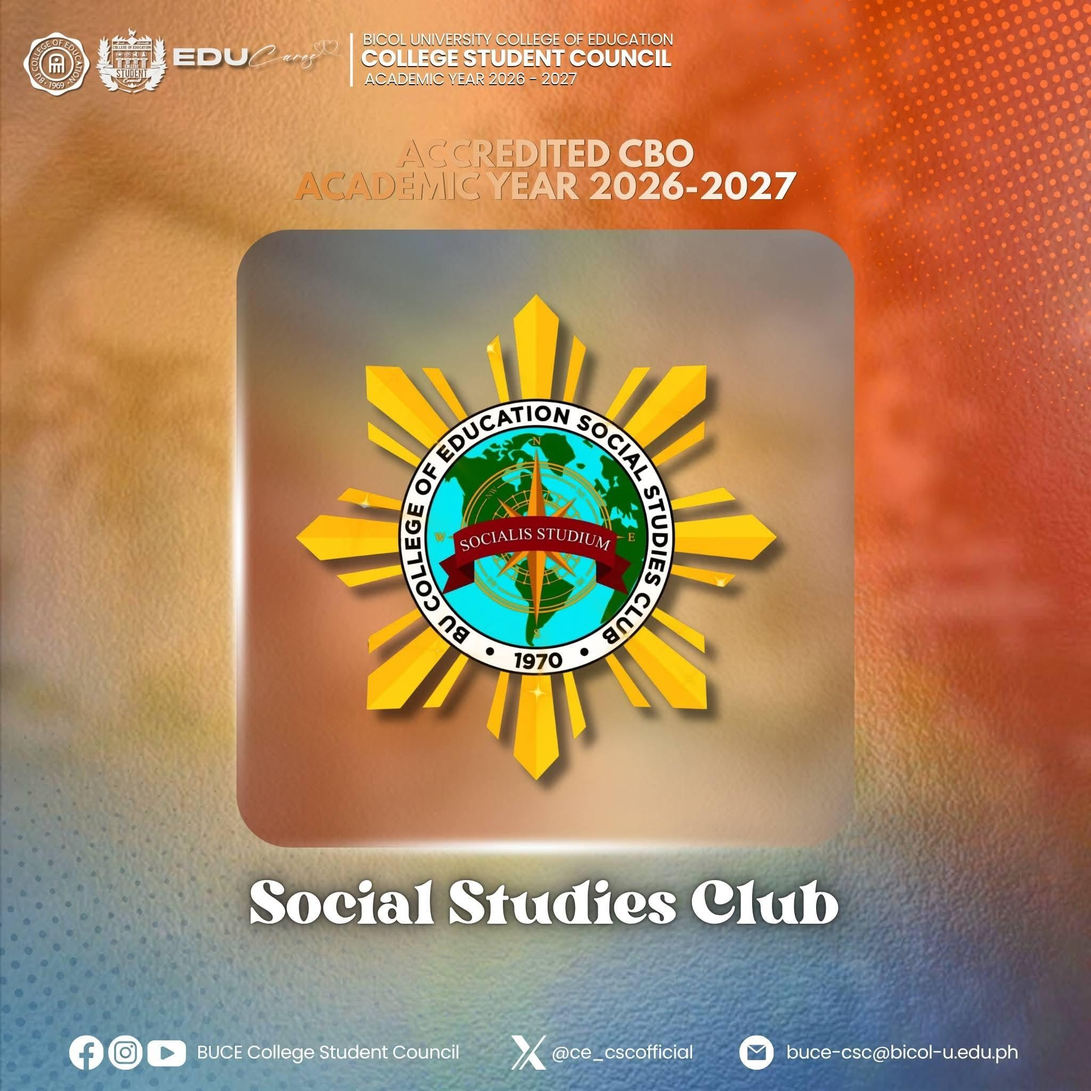embellishment: (504, 1027, 553, 1075), (66, 1030, 107, 1073), (105, 1031, 147, 1072), (736, 1032, 778, 1072), (144, 1037, 190, 1071)
logo: (288, 284, 790, 793), (169, 32, 347, 80), (94, 22, 172, 97), (19, 26, 94, 98)
text: (240, 870, 845, 934), (288, 133, 811, 203), (359, 28, 682, 91), (193, 1038, 463, 1068), (781, 1040, 1023, 1064), (550, 1041, 698, 1064)
underlay: (236, 226, 856, 848)
